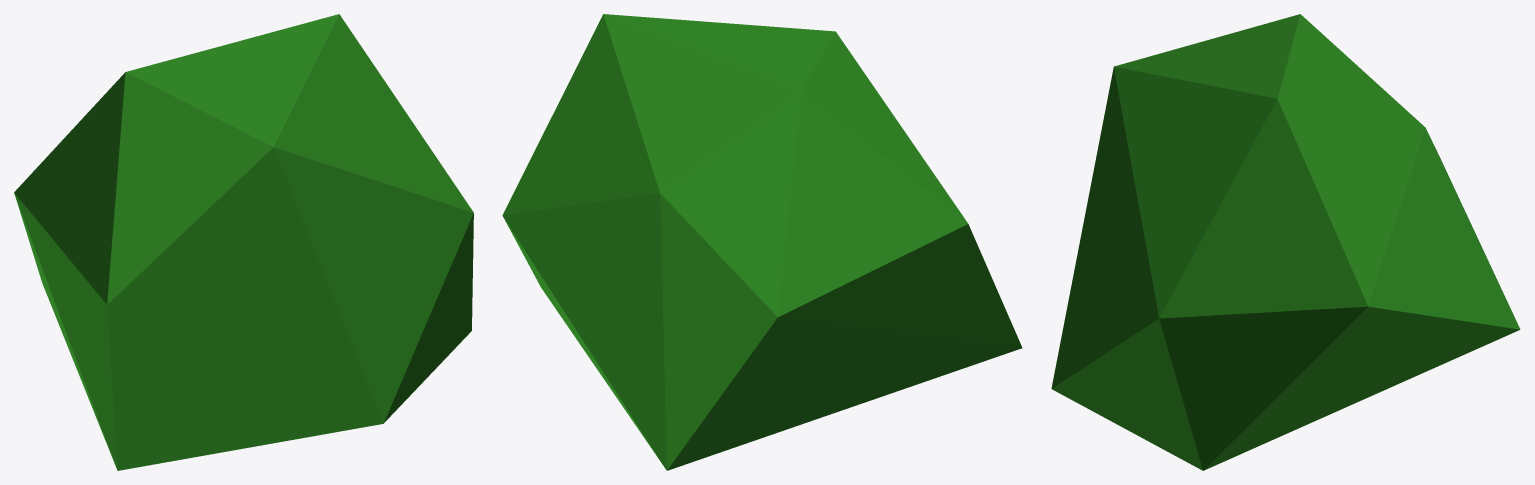
The model's file is bush.fbx.
3 views of the same model, side by side, from view 1: azimuth 30°, elevation 25°; view 2: azimuth 150°, elevation 25°; view 3: azimuth 270°, elevation 25° (orthographic). The views are drawn at different scales.
Parts seen in each view (by area): view 1: pPlatonic13; view 2: pPlatonic13; view 3: pPlatonic13.
Part boxes in pixels (left/top/right/bottom): pPlatonic13: left=14, top=14, right=473, bottom=470; pPlatonic13: left=502, top=14, right=1022, bottom=470; pPlatonic13: left=1051, top=14, right=1520, bottom=470.
Bounding box in the file's own units: 7.55 × 5.53 × 7.26.
